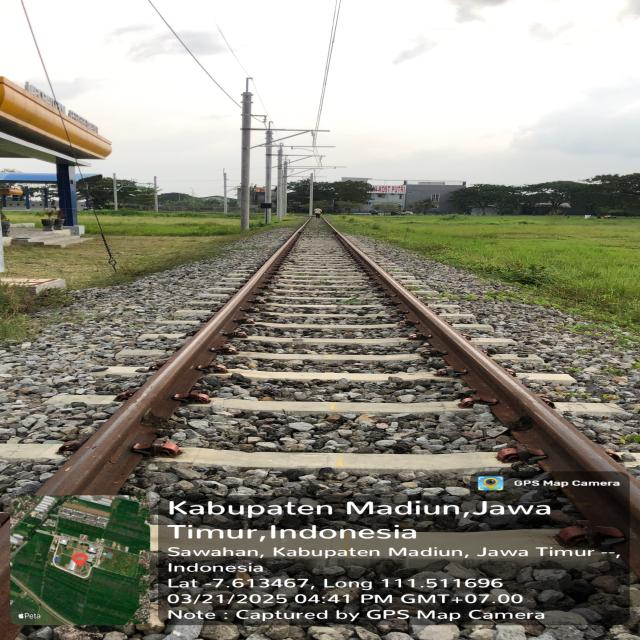rail-detection: (334, 231, 640, 575), (38, 231, 300, 495)
